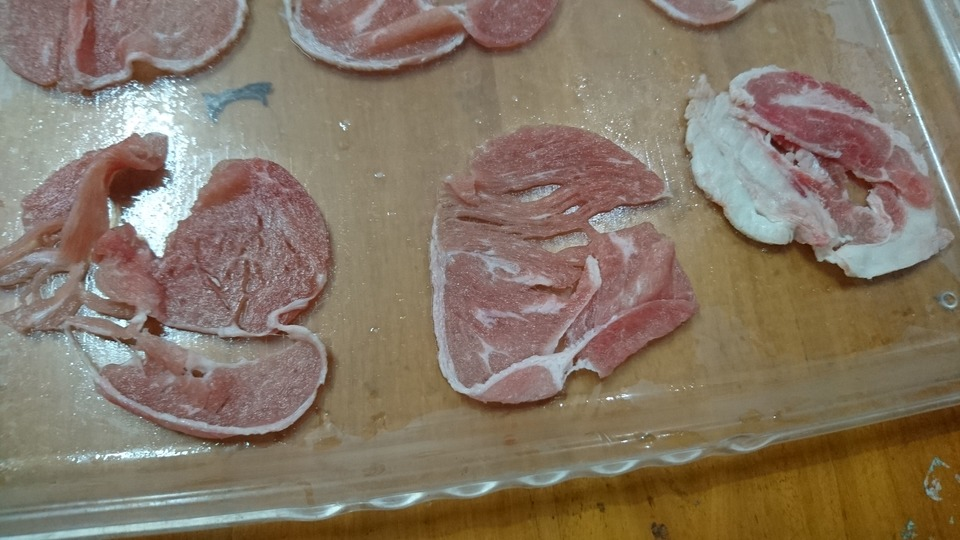restructured meat: (16, 147, 340, 450), (440, 129, 696, 409), (683, 68, 943, 286), (4, 1, 249, 95), (275, 1, 560, 65)
